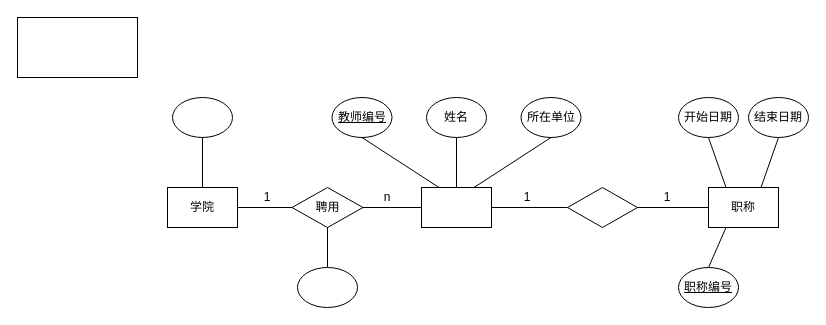
Image size: 826x325. Some labels were removed from this diagram. Here are the shapes that lost their labels. From the top down, the centre of each, then its label:
pixel 202 117: 学院编号
pixel 456 207: 教师
pixel 602 207: 升迁
pixel 327 287: 聘期
